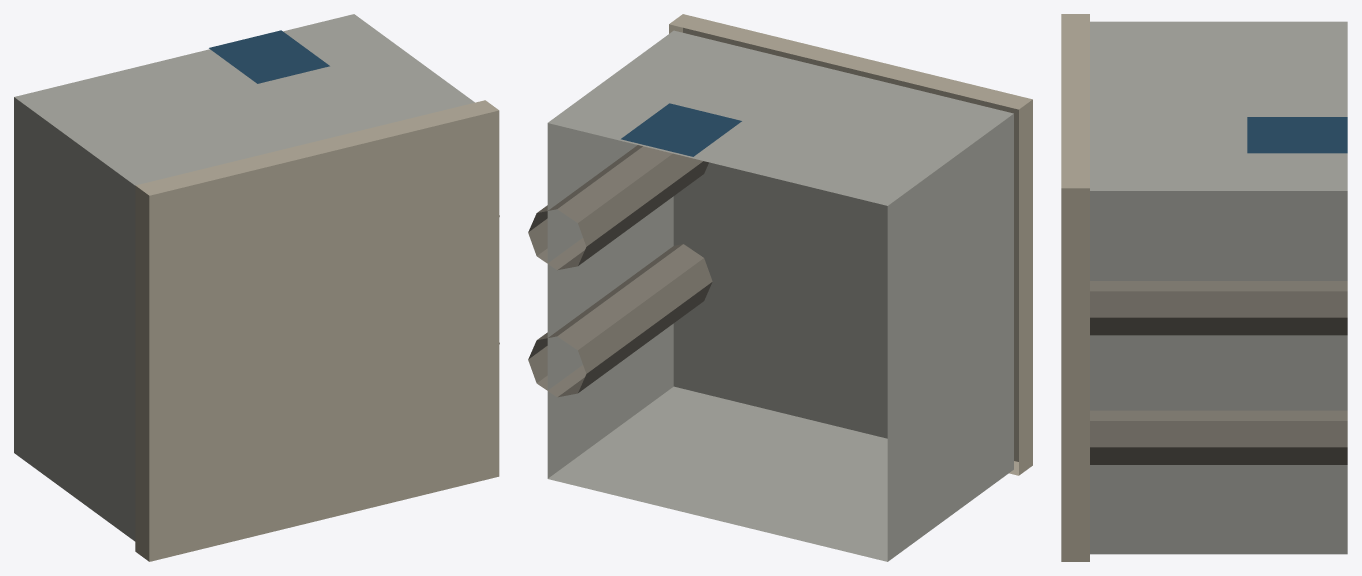
The model's file is construction_0.glb.
3 renders of one model, left to right at view 1: azimuth 30°, elevation 25°; view 2: azimuth 150°, elevation 25°; view 3: azimuth 270°, elevation 25°, orthographic. The views are drawn at different scales.
Parts seen in each view (by area): view 1: construction_0; view 2: construction_0; view 3: construction_0.
Part boxes in pixels (box(x1,y1,x2,y2)): construction_0: box(14, 14, 499, 561); construction_0: box(528, 14, 1032, 561); construction_0: box(1061, 14, 1347, 561).
Size of the model in its own units: 15 by 14.4 by 10.
